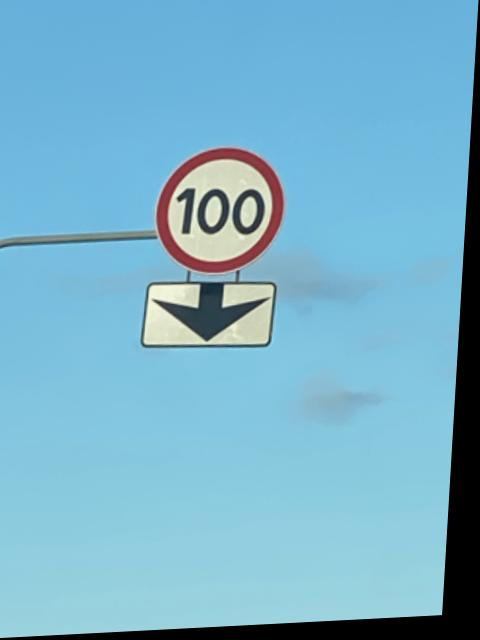limit100: (148, 138, 299, 287)
